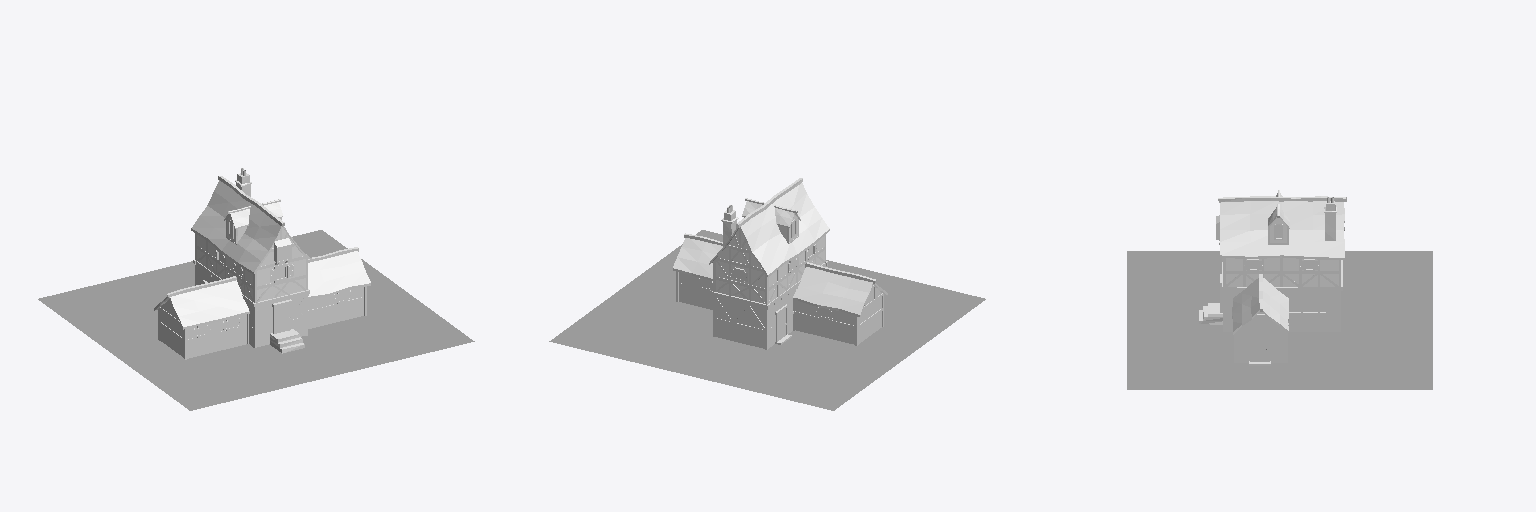
Rendered from home.obj.
The picture shows the model from 3 angles: view 1: azimuth 30°, elevation 25°; view 2: azimuth 150°, elevation 25°; view 3: azimuth 270°, elevation 25°; orthographic projection.
Parts seen in each view (by area): view 1: Plane, Roof, Level1, WoodenBeams, Level2, RoofFrame, WindowFrames, Steps; view 2: Plane, Roof, Level1, WoodenBeams, Level2, RoofFrame, WindowFrames; view 3: Plane, Roof, Level1, WoodenBeams, Level2, RoofFrame, WindowFrames.
Part boxes in pixels (x1,y1,x2,y2): Plane: (38,230,474,410); Roof: (170,180,370,326); Level1: (160,267,363,358); WoodenBeams: (158,215,366,359); Level2: (197,227,305,301); RoofFrame: (154,176,370,329); WindowFrames: (194,220,351,337); Steps: (270,329,304,353); Plane: (549,230,985,410); Roof: (673,183,872,314); Level1: (679,272,881,348); WoodenBeams: (676,215,883,349); Level2: (716,229,824,302); RoofFrame: (673,178,887,316); WindowFrames: (696,219,832,319); Plane: (1127,251,1432,389); Roof: (1219,193,1344,331); Level1: (1226,292,1338,362); WoodenBeams: (1222,218,1342,362); Level2: (1226,258,1338,286); RoofFrame: (1218,190,1346,334); WindowFrames: (1216,215,1319,325).
Bounding box in the file's own units: 22.44 × 9.79 × 20.92.